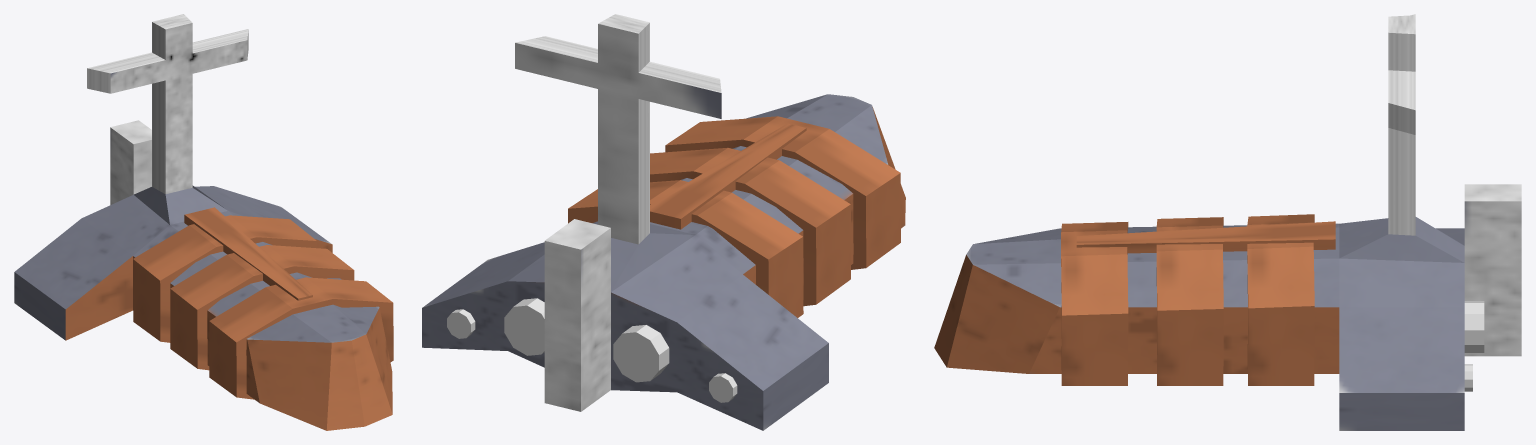
Rendered from nave_grande_V5.fbx.
The picture shows the model from 3 angles, left to right: view 1: azimuth 30°, elevation 25°; view 2: azimuth 150°, elevation 25°; view 3: azimuth 270°, elevation 25°; orthographic projection. The views are drawn at different scales.
Parts seen in each view (by area): view 1: Cube; view 2: Cube; view 3: Cube.
Boxes of the visible parts, box(x1,y1,x2,y2) form: Cube: box(14, 14, 393, 430); Cube: box(422, 14, 905, 430); Cube: box(934, 14, 1521, 430).
Bounding box in the file's own units: 161 × 159 × 252.
